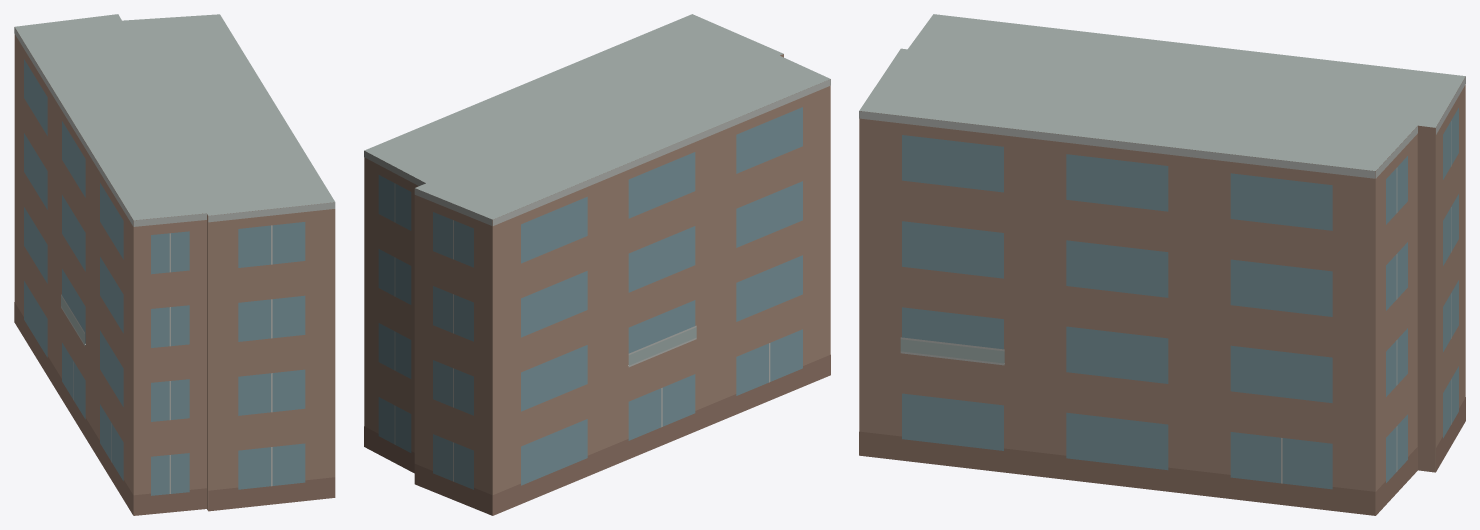
Rendered from survey-upis-32630085.glb.
3 views of the same model, side by side, from view 1: azimuth 30°, elevation 25°; view 2: azimuth 150°, elevation 25°; view 3: azimuth 270°, elevation 25° (orthographic). The views are drawn at different scales.
Parts seen in each view (by area): view 1: survey-upis-32630085.tmp; view 2: survey-upis-32630085.tmp; view 3: survey-upis-32630085.tmp.
Part boxes in pixels (box(x1,y1,x2,y2)): survey-upis-32630085.tmp: box(14, 14, 335, 515); survey-upis-32630085.tmp: box(364, 14, 830, 515); survey-upis-32630085.tmp: box(859, 14, 1465, 515).
Bounding box in the file's own units: 10.66 × 10.9 × 17.39.
